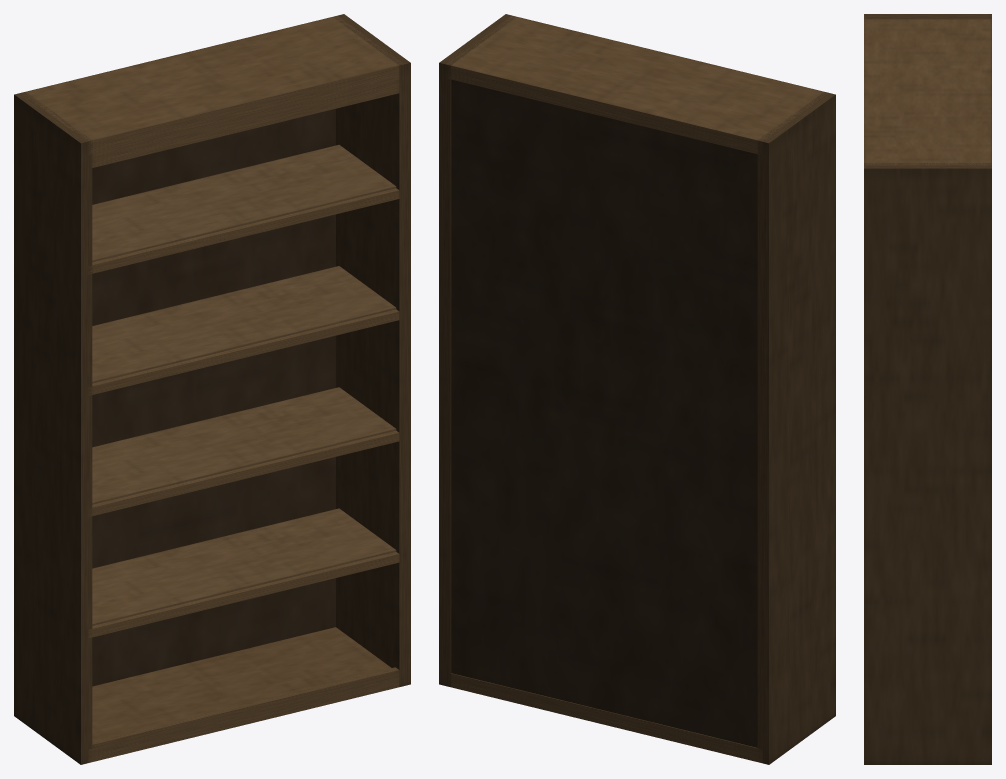
Rendered from bookshelf.glb.
3 views of the same model, side by side, from view 1: azimuth 30°, elevation 25°; view 2: azimuth 150°, elevation 25°; view 3: azimuth 270°, elevation 25° (orthographic). The views are drawn at different scales.
Parts seen in each view (by area): view 1: core_bookshelf; view 2: core_bookshelf; view 3: core_bookshelf.
Boxes of the visible parts, x1,y1,x2,y2 form: core_bookshelf: (14, 14, 410, 764); core_bookshelf: (439, 14, 835, 764); core_bookshelf: (864, 14, 991, 764).
Bounding box in the file's own units: 1 × 1.8 × 0.35.
1 material, 1 textured.
